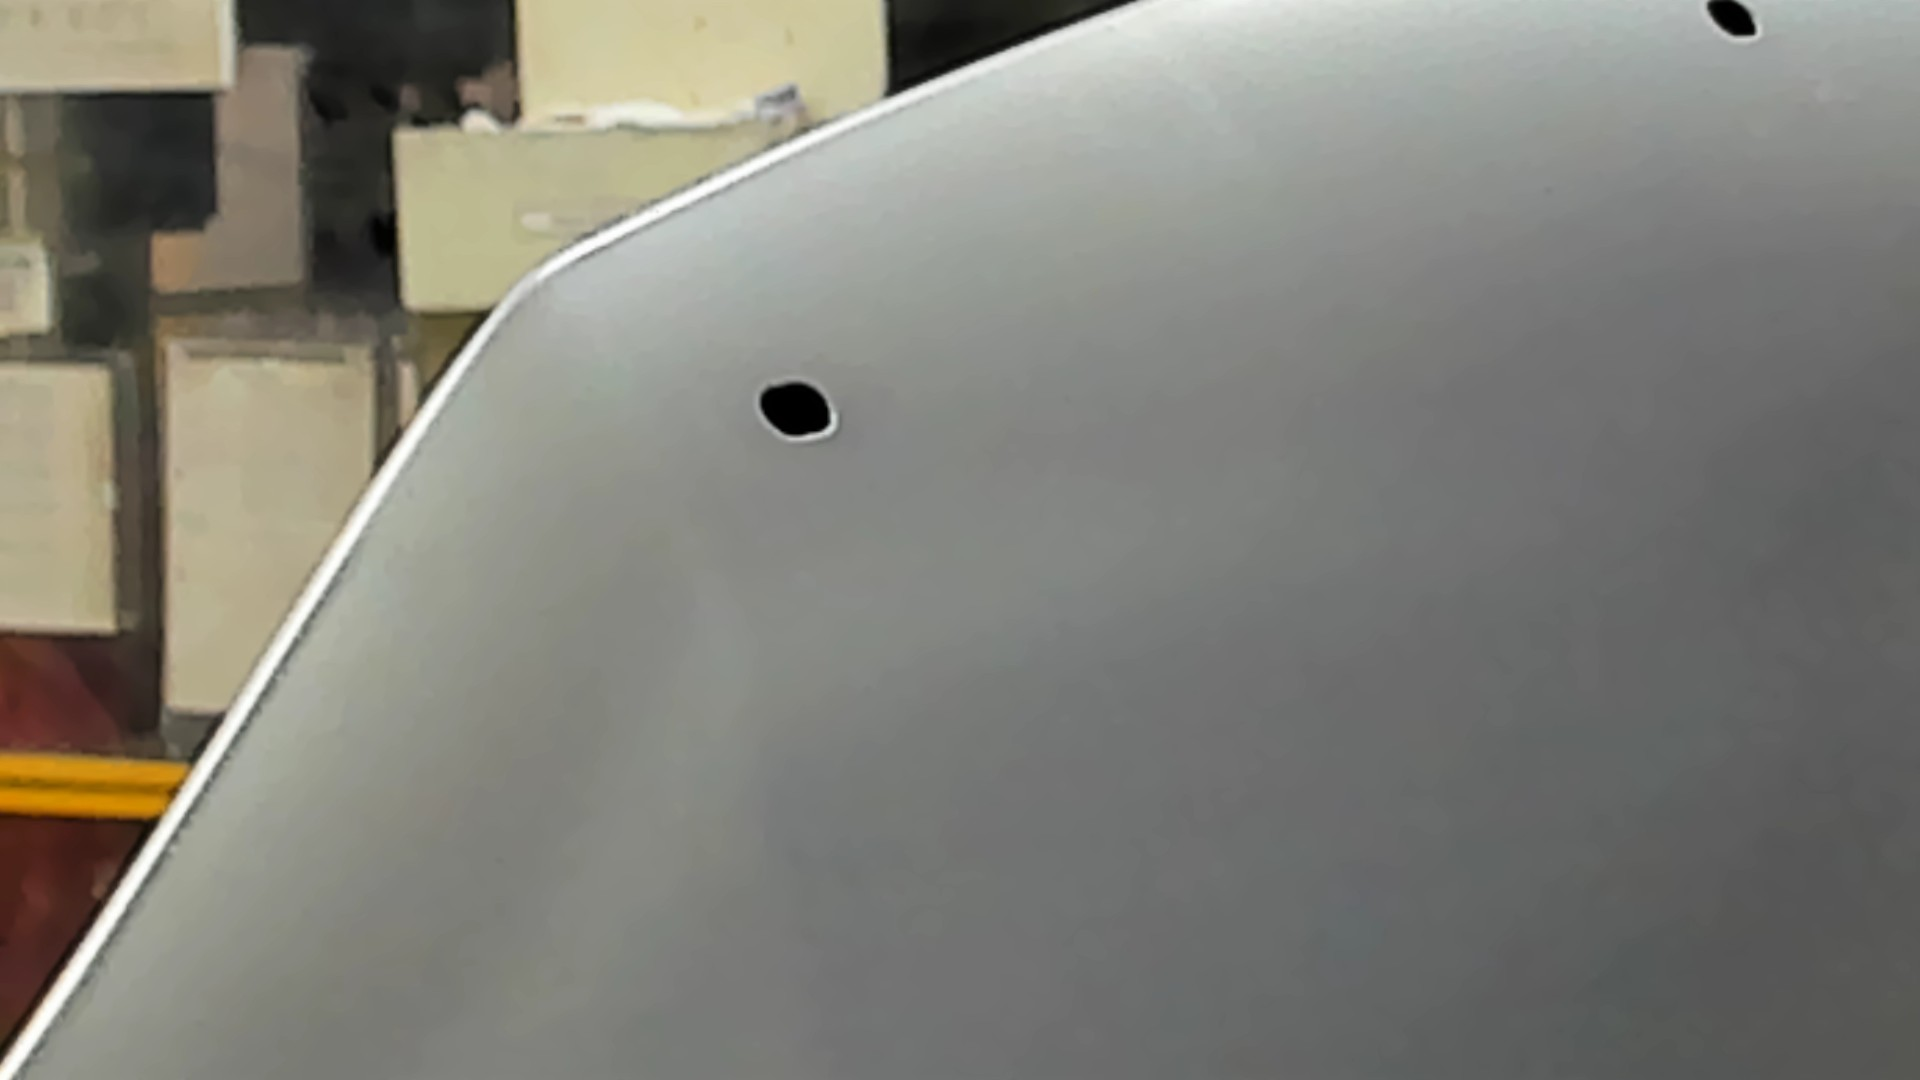amorfo: (752, 377, 848, 447), (1689, 1, 1766, 50)
